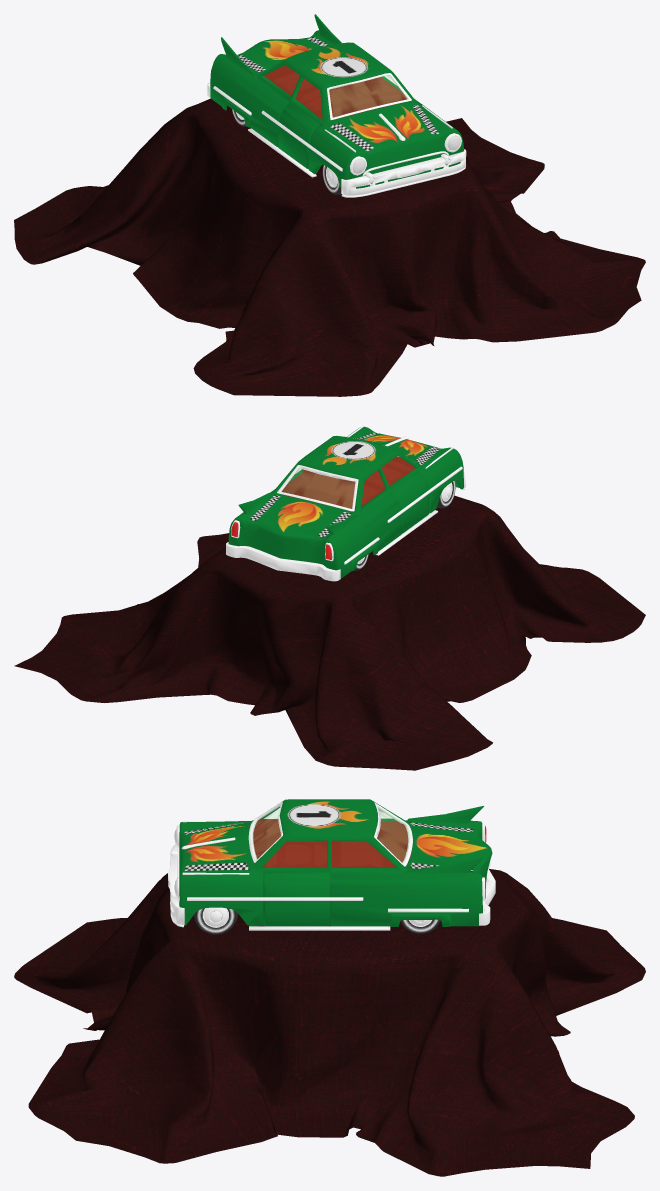
File: ToyCar.glb
3 renders of one model, top to bottom at view 1: azimuth 30°, elevation 25°; view 2: azimuth 150°, elevation 25°; view 3: azimuth 270°, elevation 25°, orthographic. The views are drawn at different scales.
Visible parts, largest first — view 1: Fabric, ToyCar, Glass; view 2: Fabric, ToyCar, Glass; view 3: Fabric, ToyCar, Glass.
Part boxes in pixels (bbox=[...]): Fabric: bbox=[14, 98, 645, 396]; ToyCar: bbox=[207, 14, 466, 197]; Glass: bbox=[329, 75, 406, 116]; Fabric: bbox=[14, 495, 645, 770]; ToyCar: bbox=[226, 425, 465, 581]; Glass: bbox=[282, 468, 354, 508]; Fabric: bbox=[14, 869, 645, 1176]; ToyCar: bbox=[168, 799, 495, 934]; Glass: bbox=[252, 806, 409, 862].
Bounding box in the file's own units: 0.0734 × 0.0288 × 0.074.
3 materials, 2 textured.
